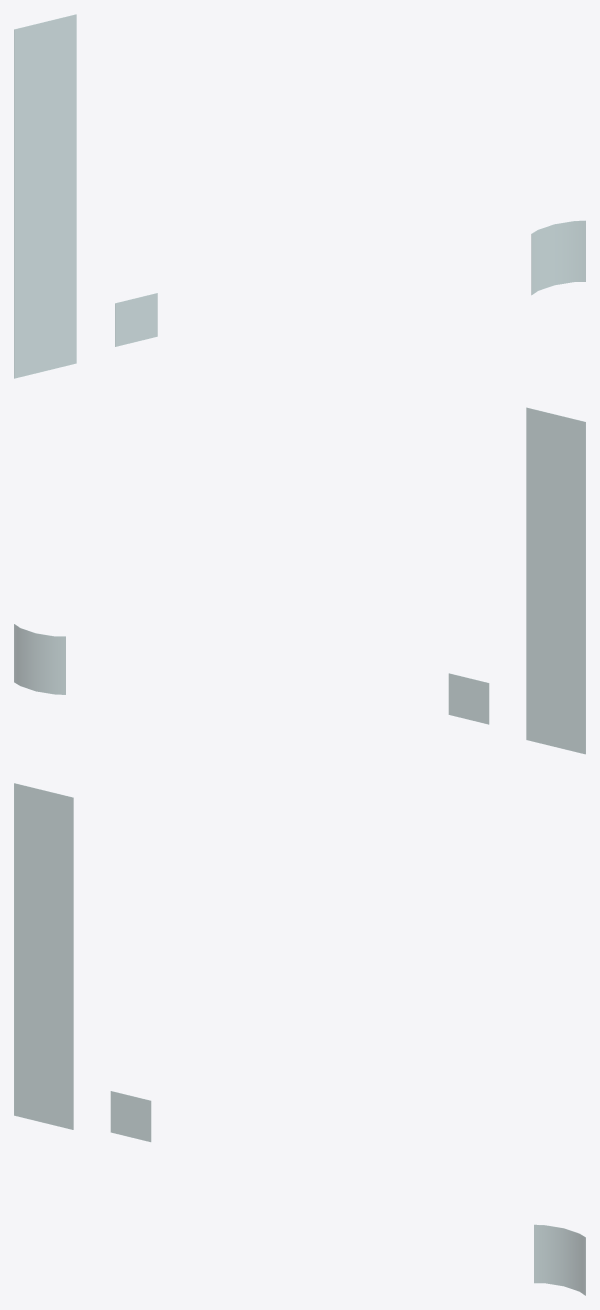
The model's file is boli.FBX.
3 views of the same model, one above another, from view 1: azimuth 30°, elevation 25°; view 2: azimuth 150°, elevation 25°; view 3: azimuth 330°, elevation 25° (orthographic). The views are drawn at different scales.
Visible parts, largest first — view 1: 对象010; view 2: 对象010; view 3: 对象010.
Part boxes in pixels (x1=…): 对象010: x1=14, y1=14, x2=585, y2=378; 对象010: x1=14, y1=407, x2=585, y2=754; 对象010: x1=14, y1=783, x2=585, y2=1295.
Bounding box in the file's own units: 112 × 73.85 × 6.22.
